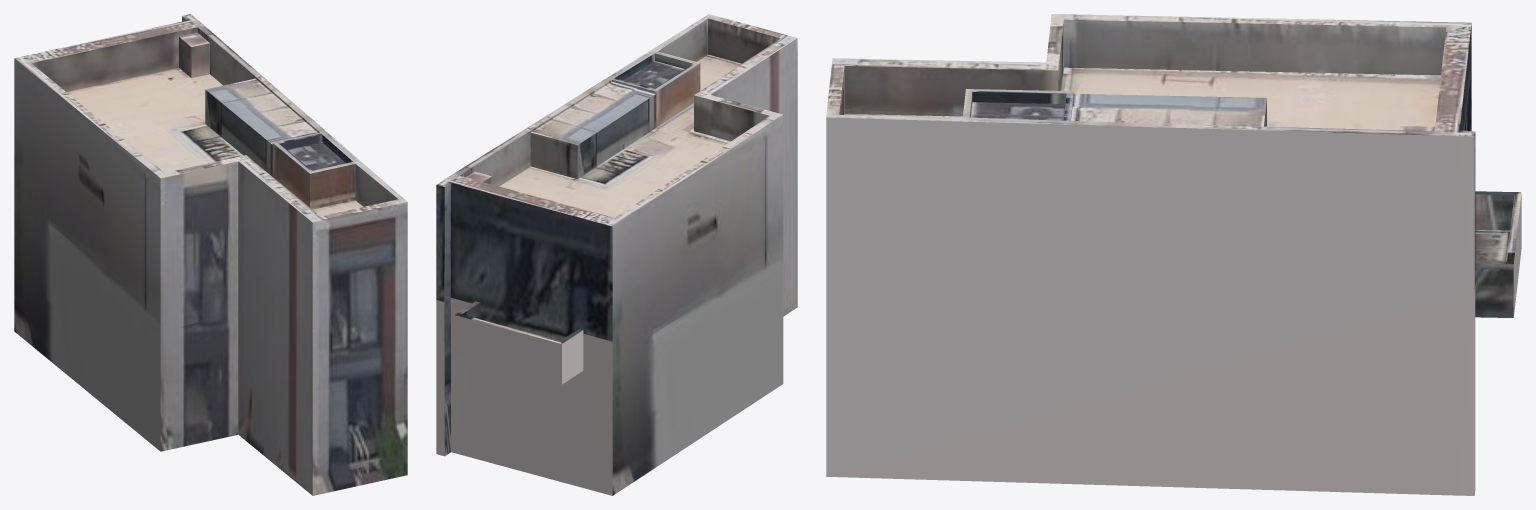
3 views of the same model, side by side, from view 1: azimuth 30°, elevation 25°; view 2: azimuth 150°, elevation 25°; view 3: azimuth 270°, elevation 25° (orthographic). The views are drawn at different scales.
Visible parts, largest first — view 1: B284054038201062A0; view 2: B284054038201062A0; view 3: B284054038201062A0.
Boxes of the visible parts, left/top/right/bottom form: B284054038201062A0: left=14, top=14, right=407, bottom=495; B284054038201062A0: left=436, top=14, right=797, bottom=495; B284054038201062A0: left=826, top=14, right=1521, bottom=495.
Size of the model in its own units: 6.79 by 9.28 by 16.28.
Materials: 1 (1 with a texture image).
